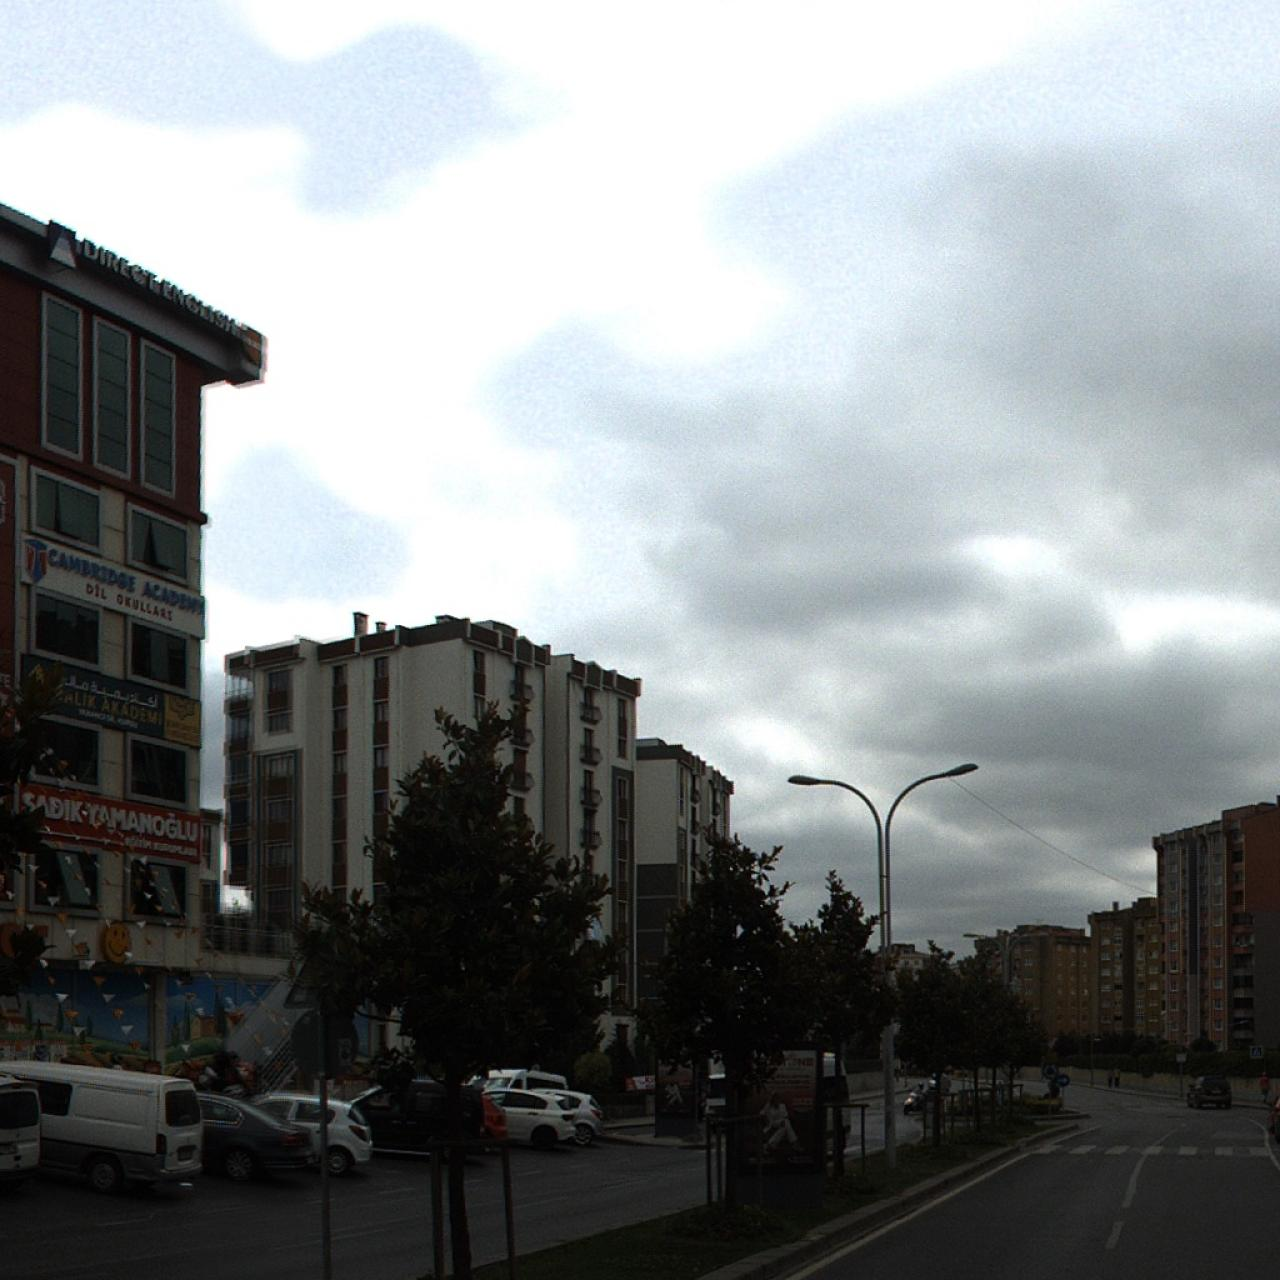SignStore: (49, 222, 264, 380), (21, 532, 205, 639), (20, 654, 202, 749), (14, 782, 202, 862)
